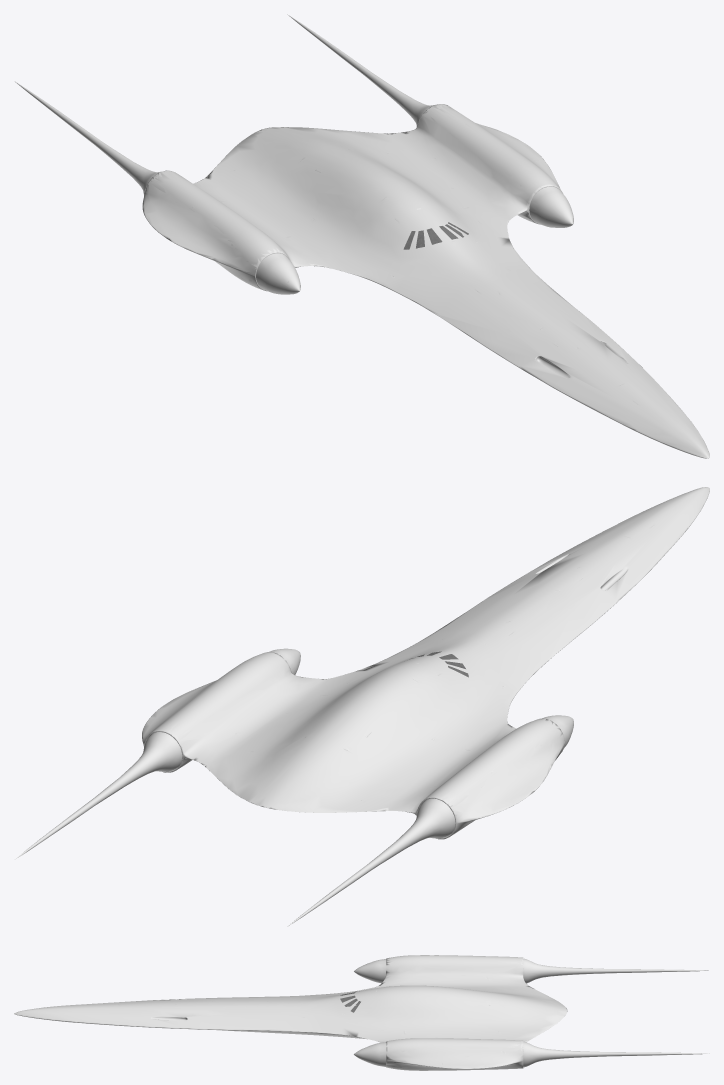
The model's file is nubian.glb.
3 views of the same model, one above another, from view 1: azimuth 30°, elevation 25°; view 2: azimuth 150°, elevation 25°; view 3: azimuth 270°, elevation 25° (orthographic). The views are drawn at different scales.
Visible parts, largest first — view 1: Object_4; view 2: Object_4; view 3: Object_4.
Part boxes in pixels (left/top/right/bottom): Object_4: left=14, top=14, right=709, bottom=458; Object_4: left=15, top=487, right=709, bottom=926; Object_4: left=14, top=955, right=709, bottom=1070.
Bounding box in the file's own units: 4.06 × 0.7362 × 10.71.
Materials: 3 (2 with a texture image).
